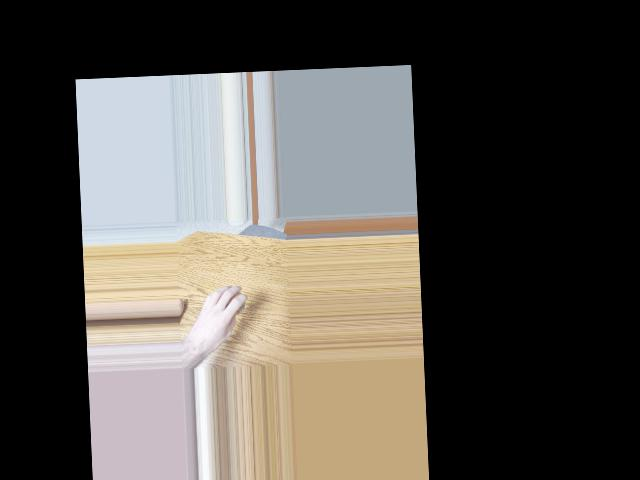onion: (220, 289, 246, 318)
